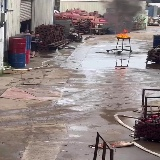fire: (118, 29, 130, 38)
